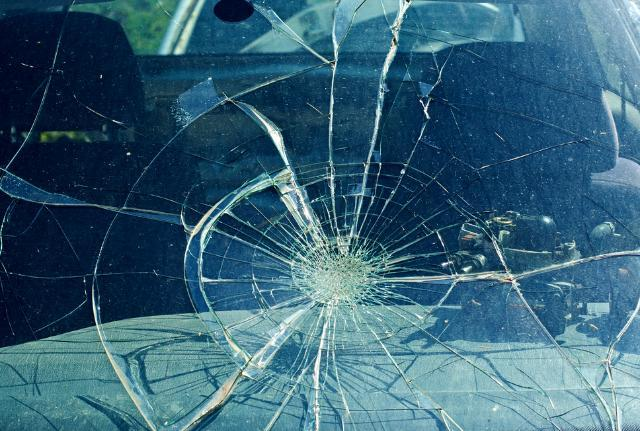Windshield: (0, 0, 640, 428)
